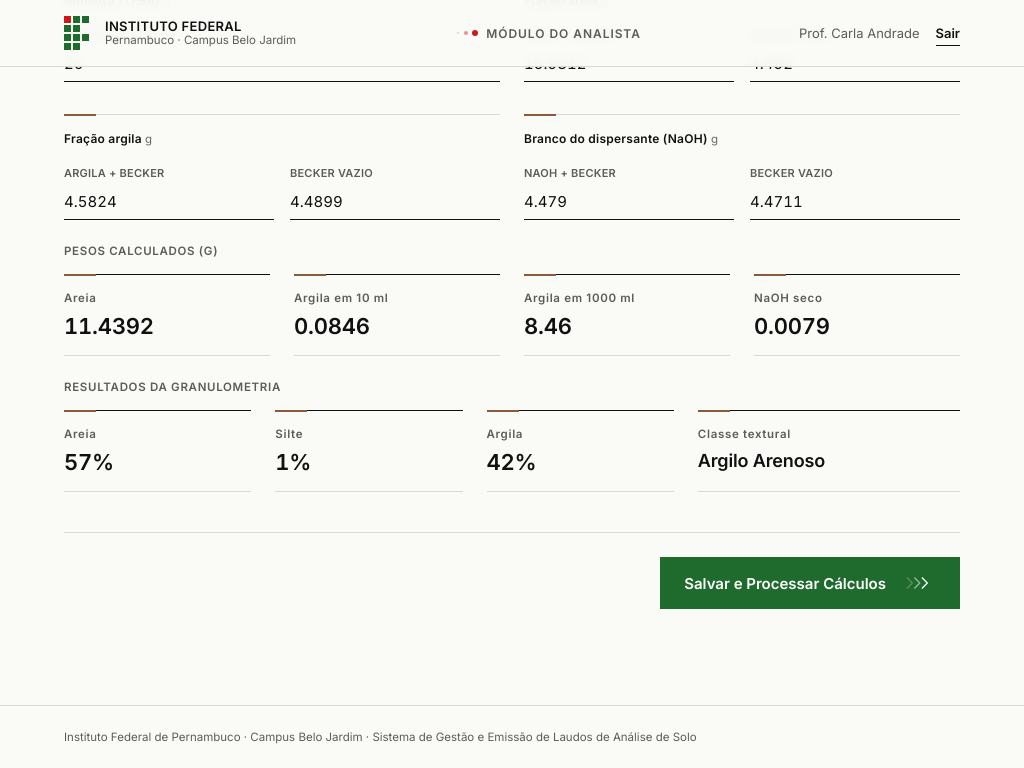
Test: AnaliseLaudoPage › exibe alerta de conflito de versão quando o servidor responde 409 ao processar
(page scrolled)
Click the button "Salvar e Processar Cálculos": (810, 583) x1=660 y1=557 x2=960 y2=609
(page scrolled)
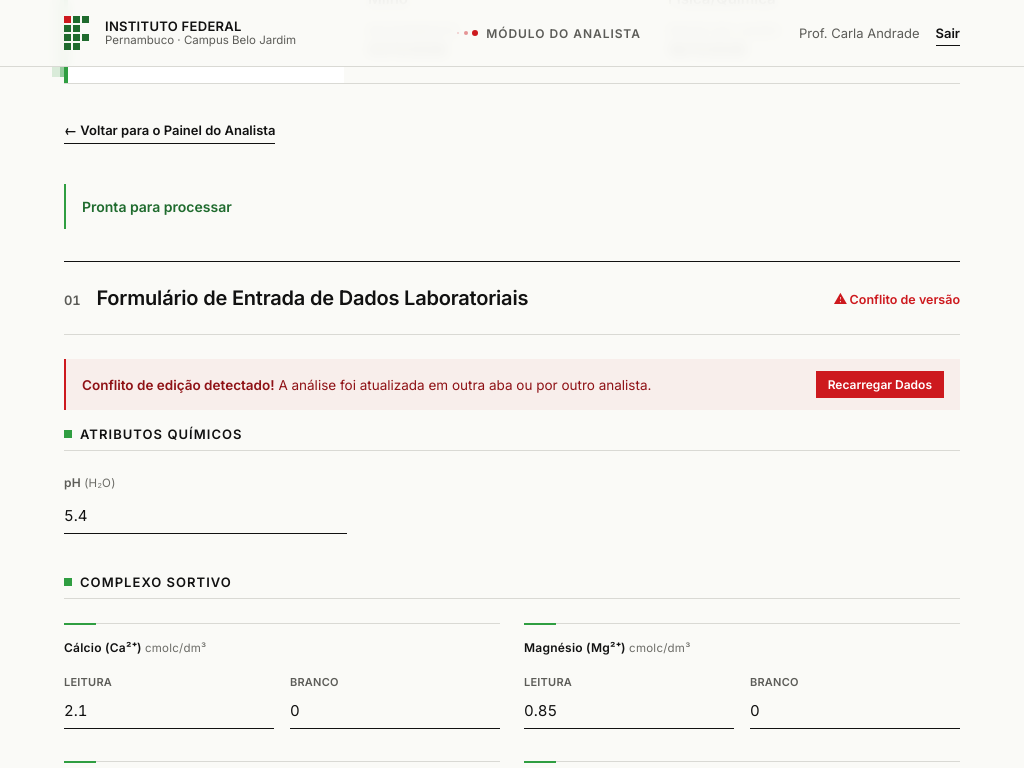
Check: the text "Conflito de edição detectado!" is shown, box x1=82 y1=376 x2=275 y2=392
Check: the button "Recarregar Dados" is shown, box x1=816 y1=371 x2=944 y2=398
